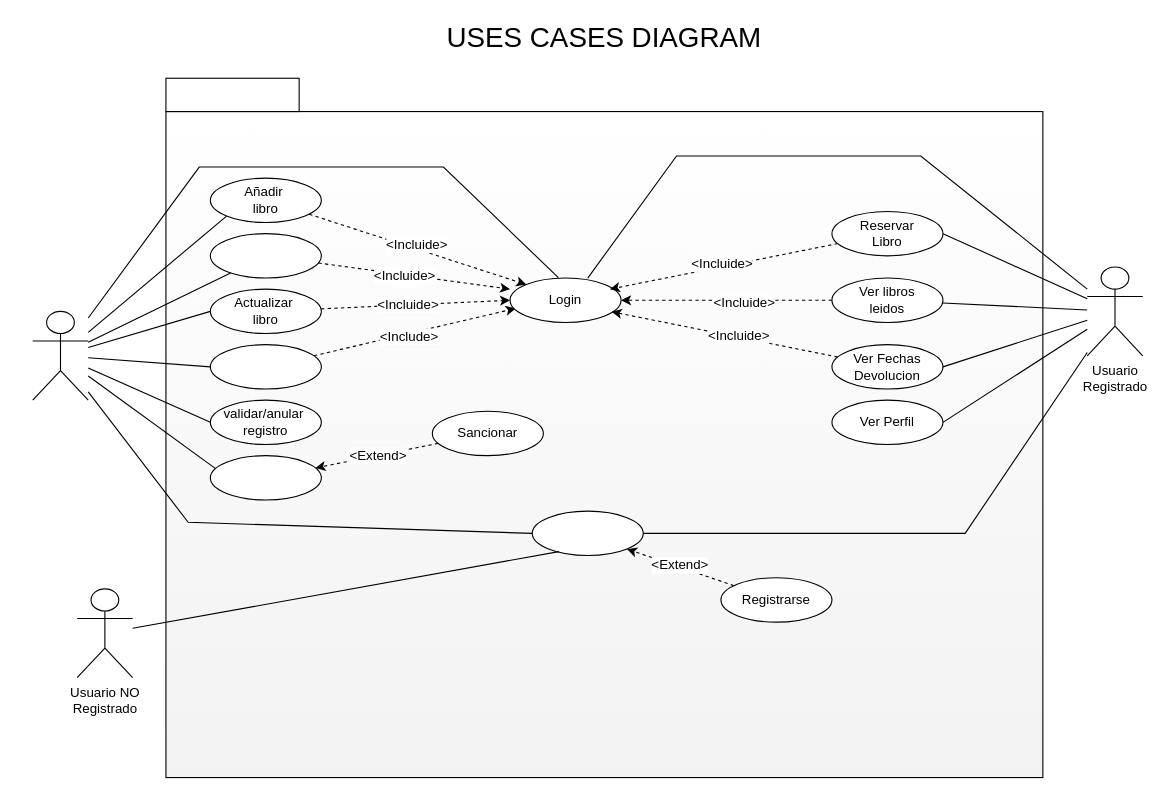
Image size: 1167x797. Some labels were removed from this diagram. The box of each missing label's shape, as (x1, y1, x2, y2) in pixels:
Administrador: (32, 310, 88, 400)
Consultar libro: (531, 510, 643, 556)
Eliminar libro: (209, 233, 321, 278)
Library: (165, 77, 299, 112)
Ver Estado Libro: (209, 344, 321, 389)
Ver usuarios: (209, 455, 321, 500)
